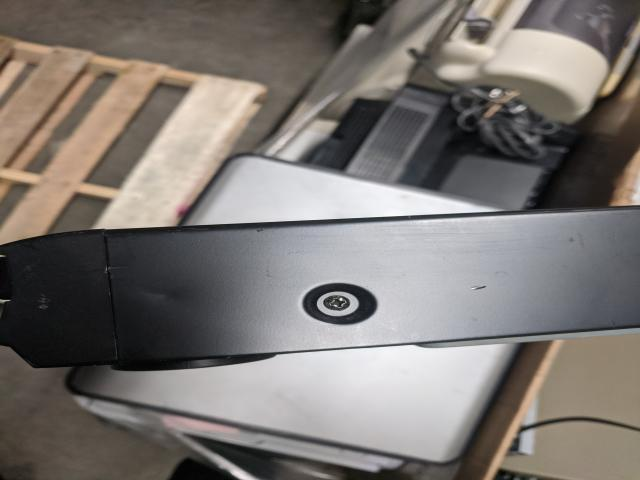CRS: (324, 295, 350, 311)
